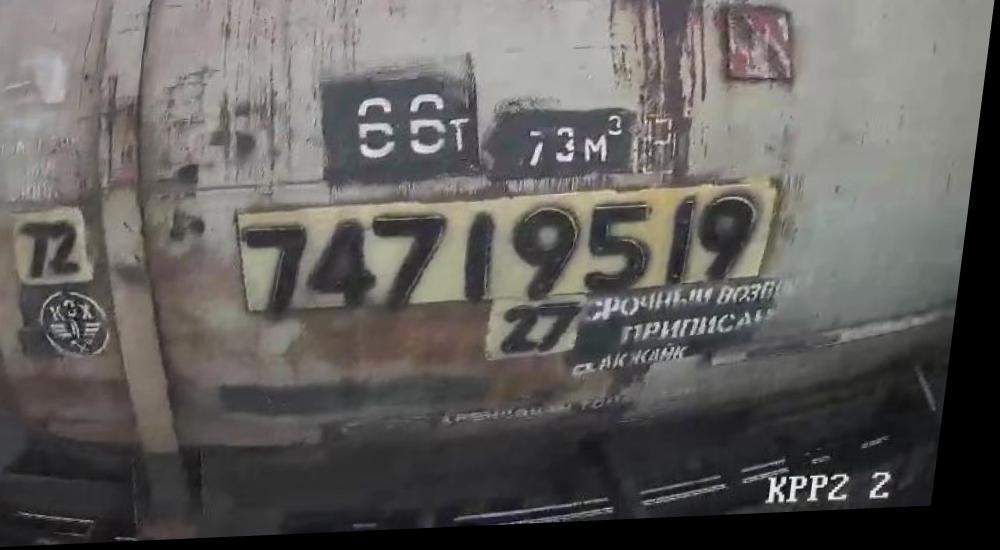Wagon-number: (235, 196, 768, 319)
